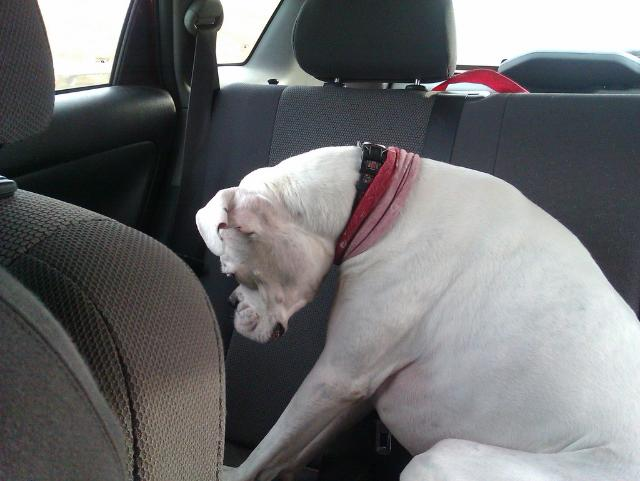Seatbelt: (362, 90, 466, 478), (148, 24, 220, 242)
